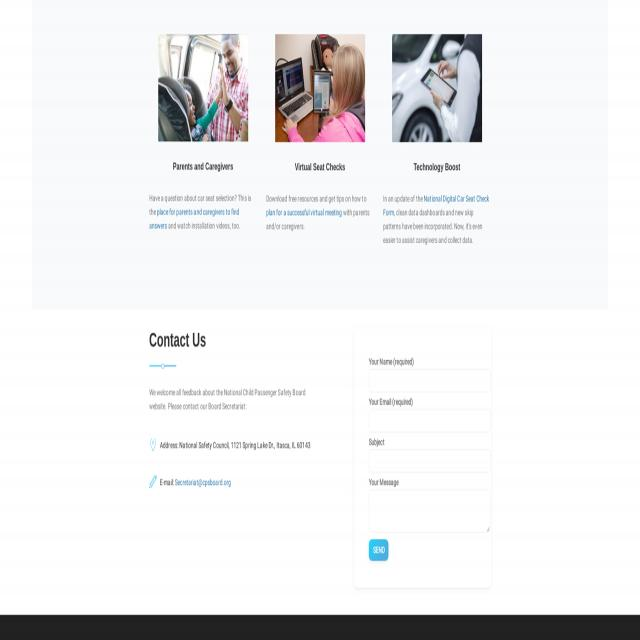button: (275, 34, 365, 142), (392, 34, 482, 142), (158, 35, 248, 142), (368, 539, 388, 561)
field: (369, 369, 491, 392), (369, 409, 491, 432), (369, 449, 491, 472)
